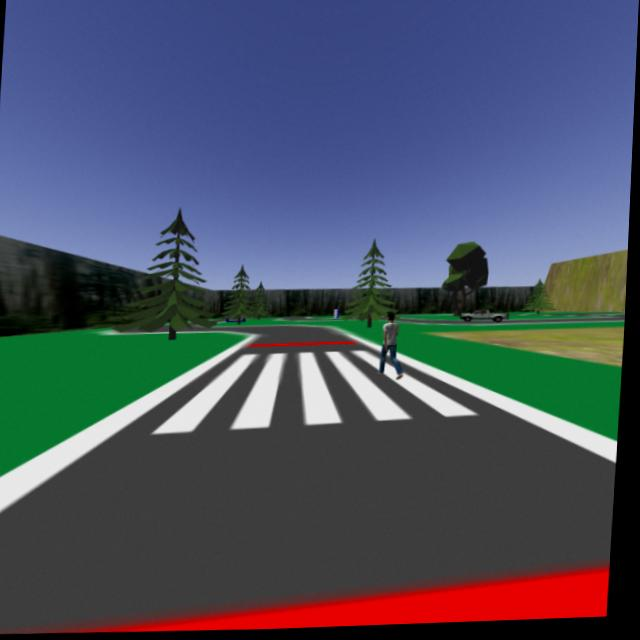pedestrian: (375, 307, 411, 383)
